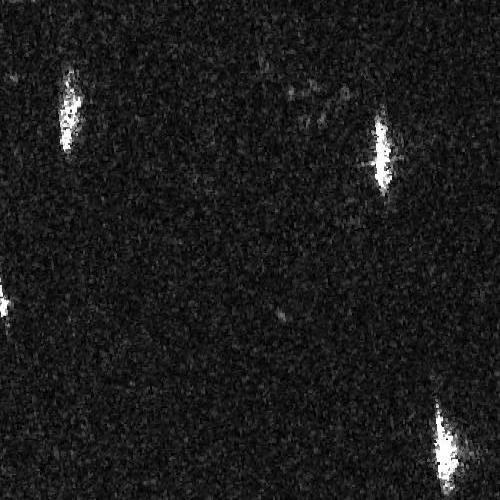ship: (433, 399, 458, 495), (57, 80, 82, 154), (373, 117, 392, 195)
